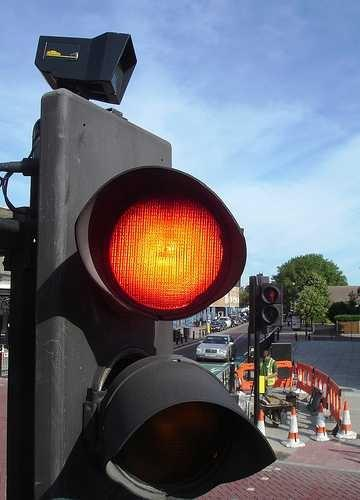red: (78, 167, 246, 325)
